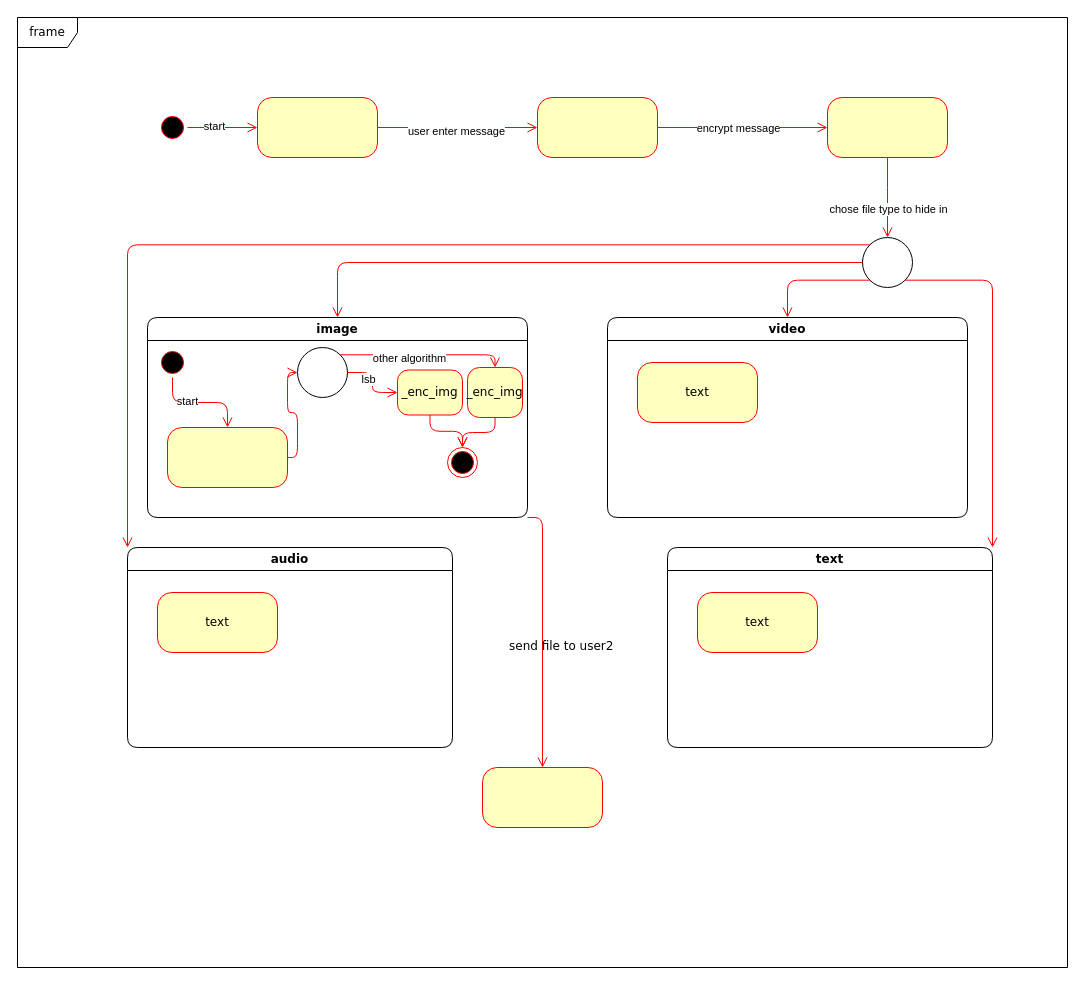
This 1085x985 diagram has some shape labels left out. Each missing label, with the centre of its shape:
"_message in program" goes at (597,127).
"choose algorithm" goes at (227,457).
"encrypt_message and _keys created" goes at (887,127).
"user2 decode stage" goes at (542,797).
"welcome state" goes at (317,127).
